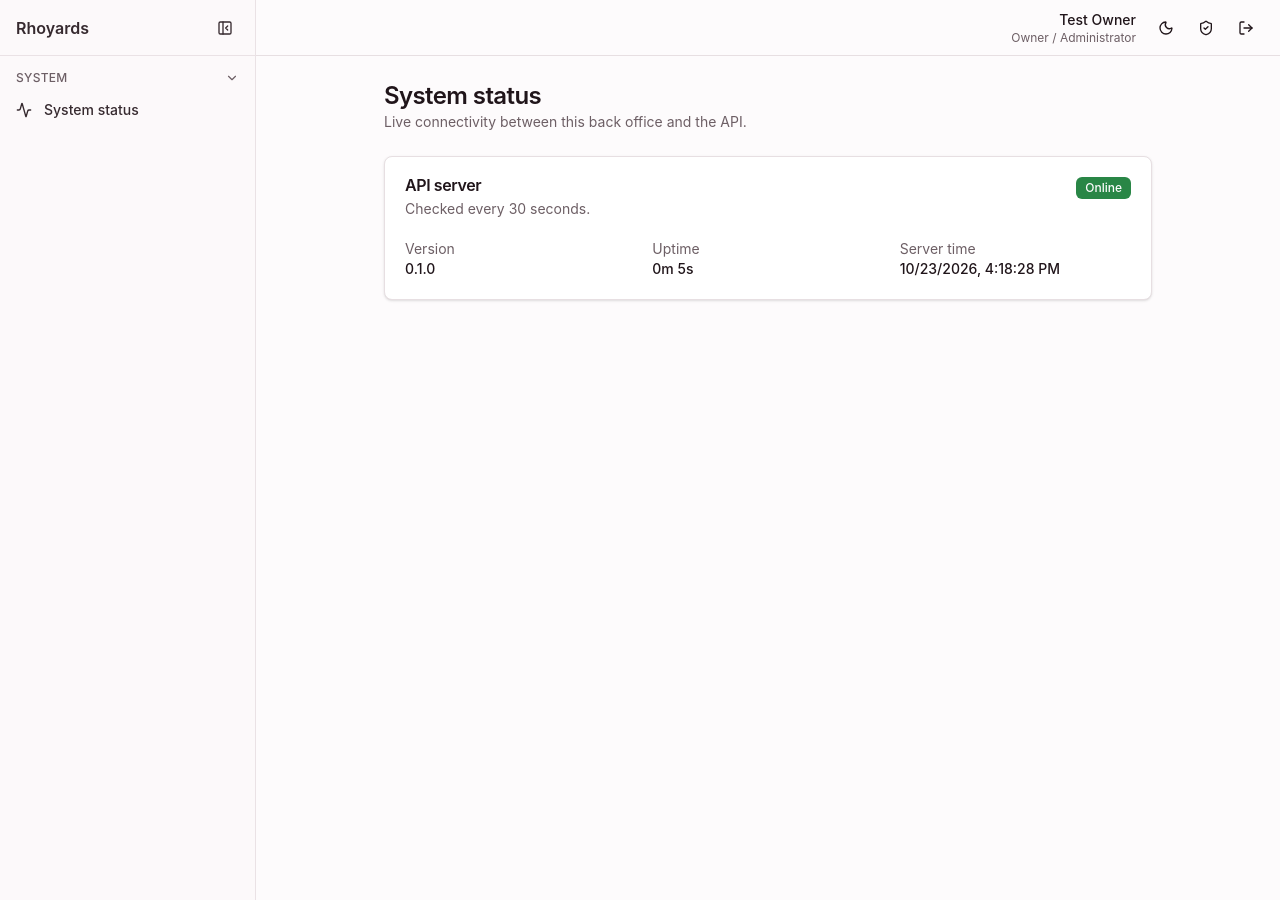
Test: AppLayout › signs out and returns to the login page
Click the button named "Sign out": (1246, 28) left=1228, top=10, right=1264, bottom=46
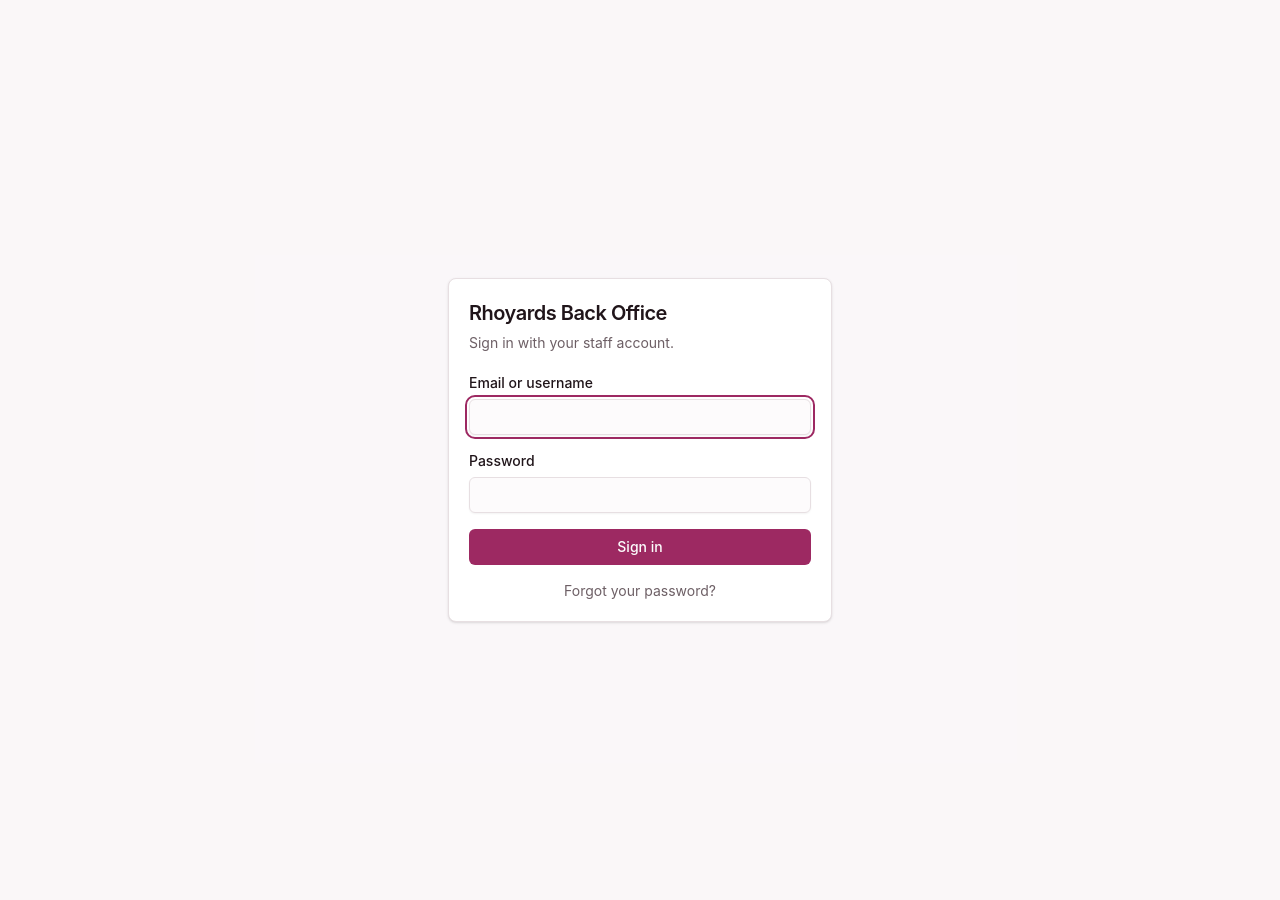
Check: the button "Sign in" is shown, box left=469, top=529, right=811, bottom=565
